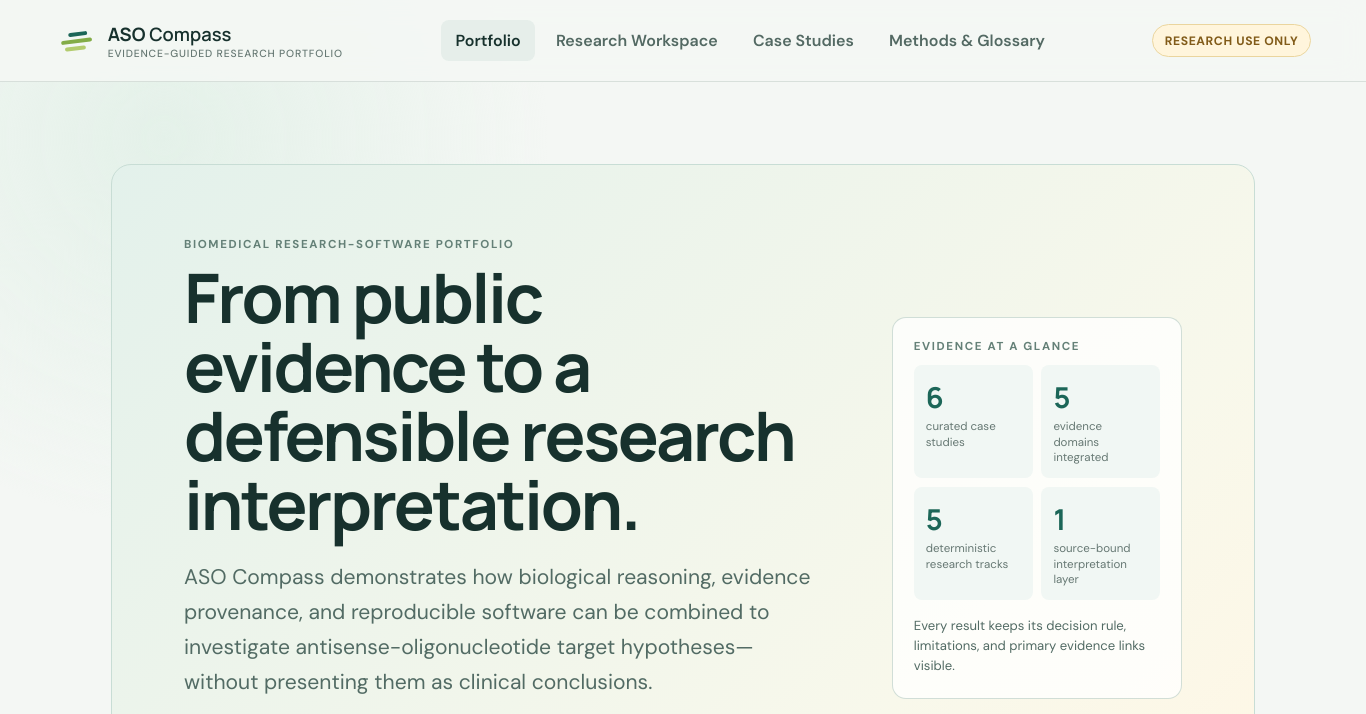
Test: ASO Compass › provides a searchable English in-application glossary
This screenshot has width=1366, height=714.
Step 1. Click the button "Methods & Glossary" → click(967, 40), box [875,20,1060,61]
(page scrolled)
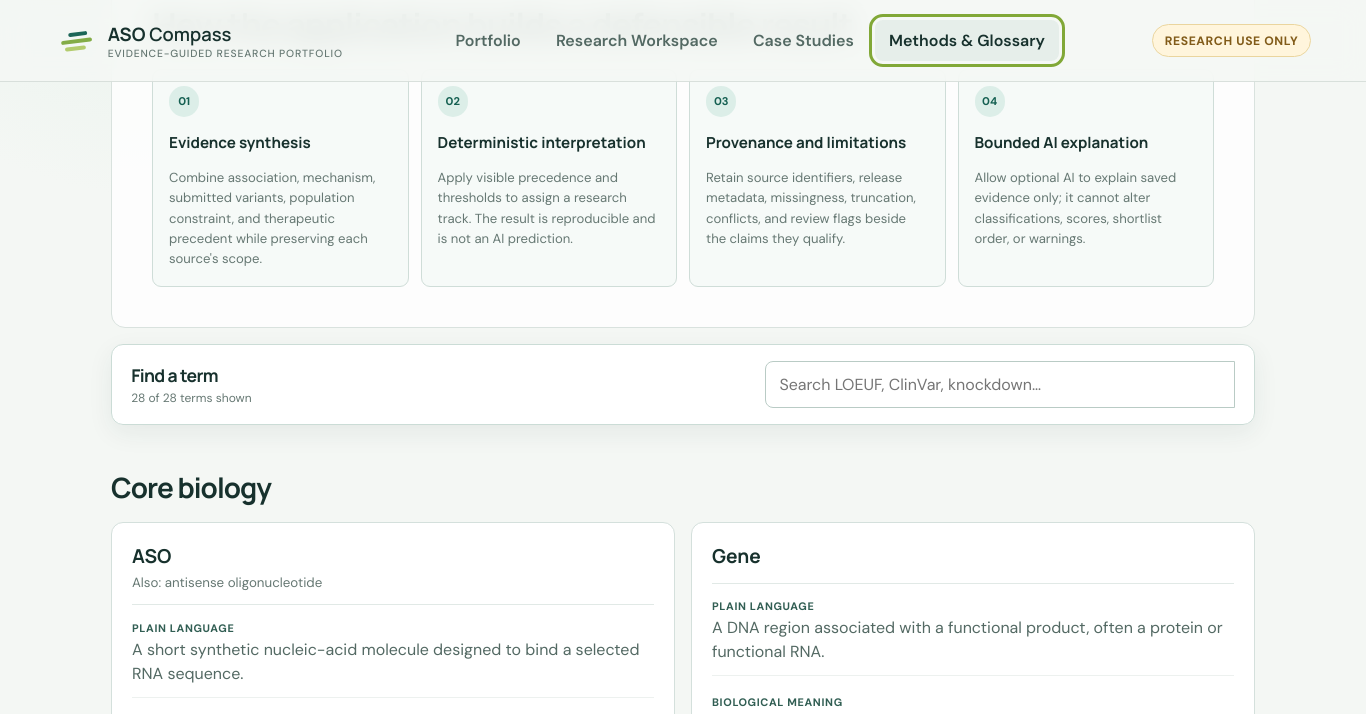
Expected: the heading "How the application builds a defensible result" is shown, [152,2,852,48]
Expected: the heading "Core biology" is shown, [111,468,271,506]
Step 2. Type "dominant negative" into the search field named "Search glossary" → (1000, 384), box [765,361,1235,408]
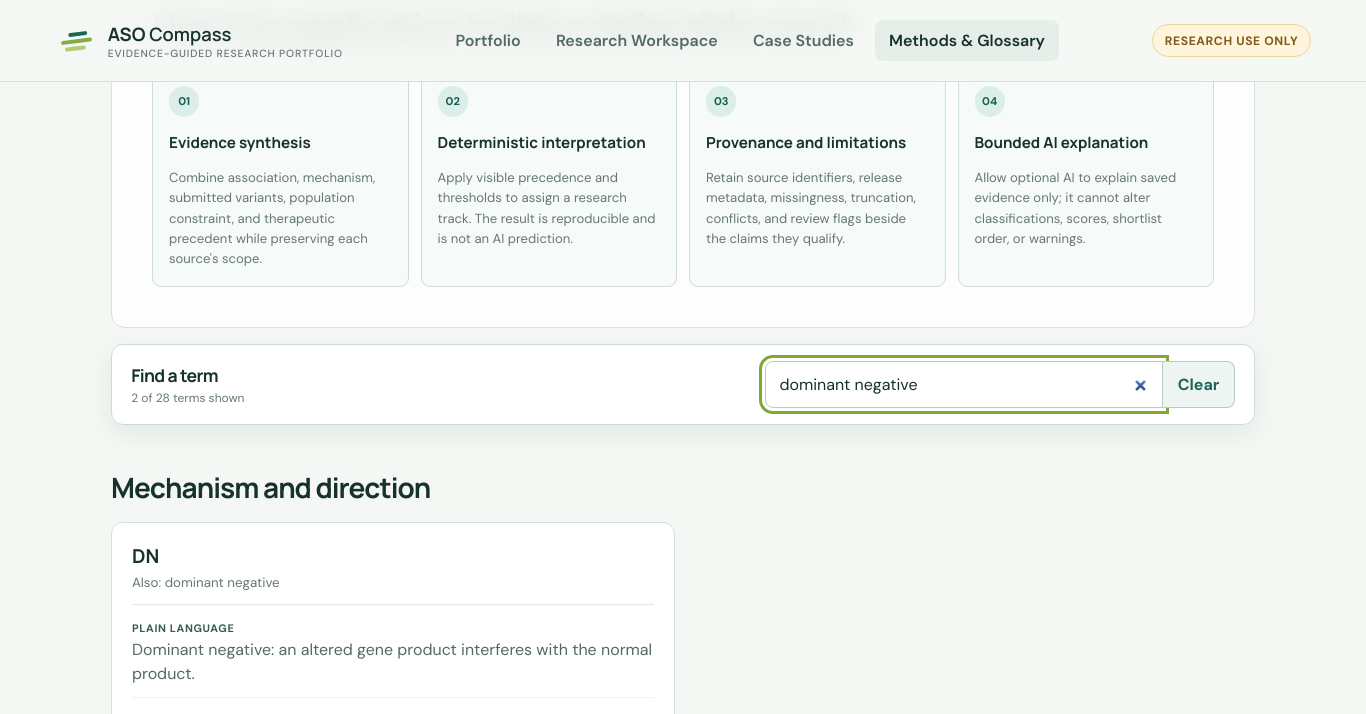
Expected: the heading "DN" is shown, [132,543,159,569]
Step 3. Click the button "Clear" → click(1199, 384), box [1163,361,1235,408]
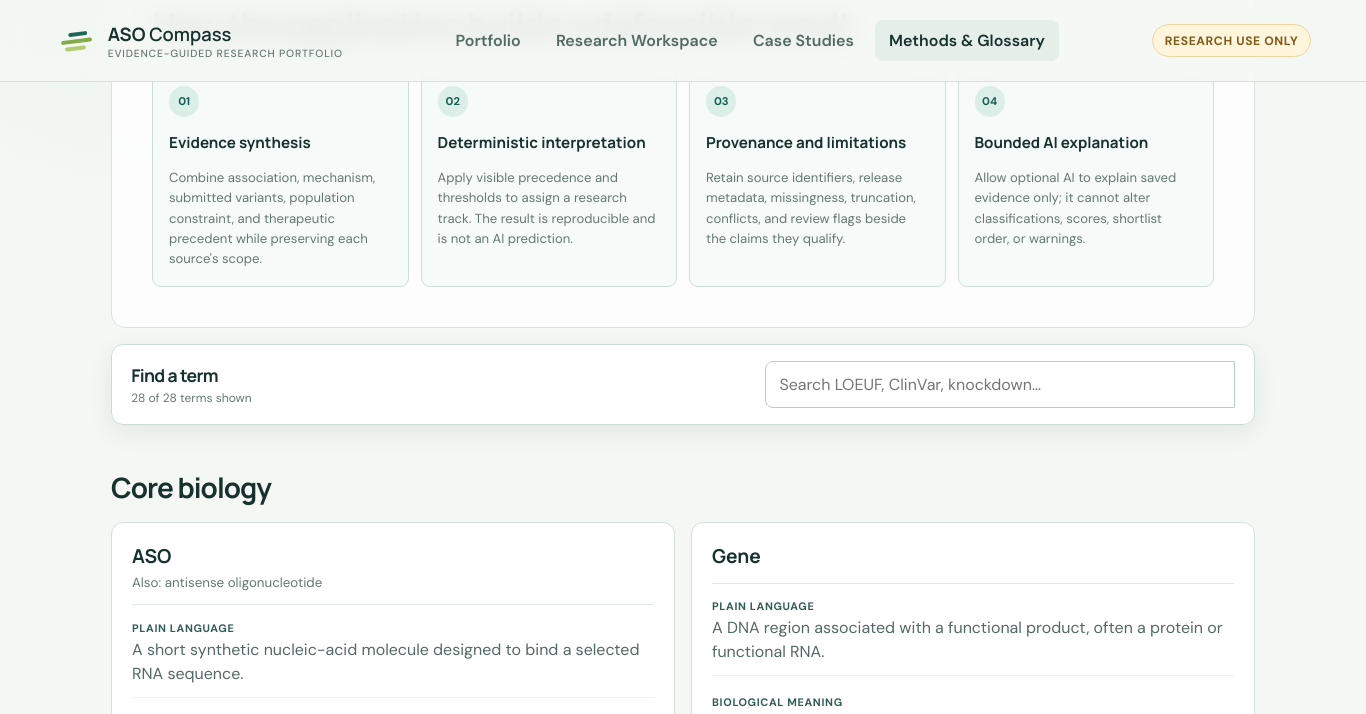
Expected: the heading "ASO" is shown, [132,543,172,569]
